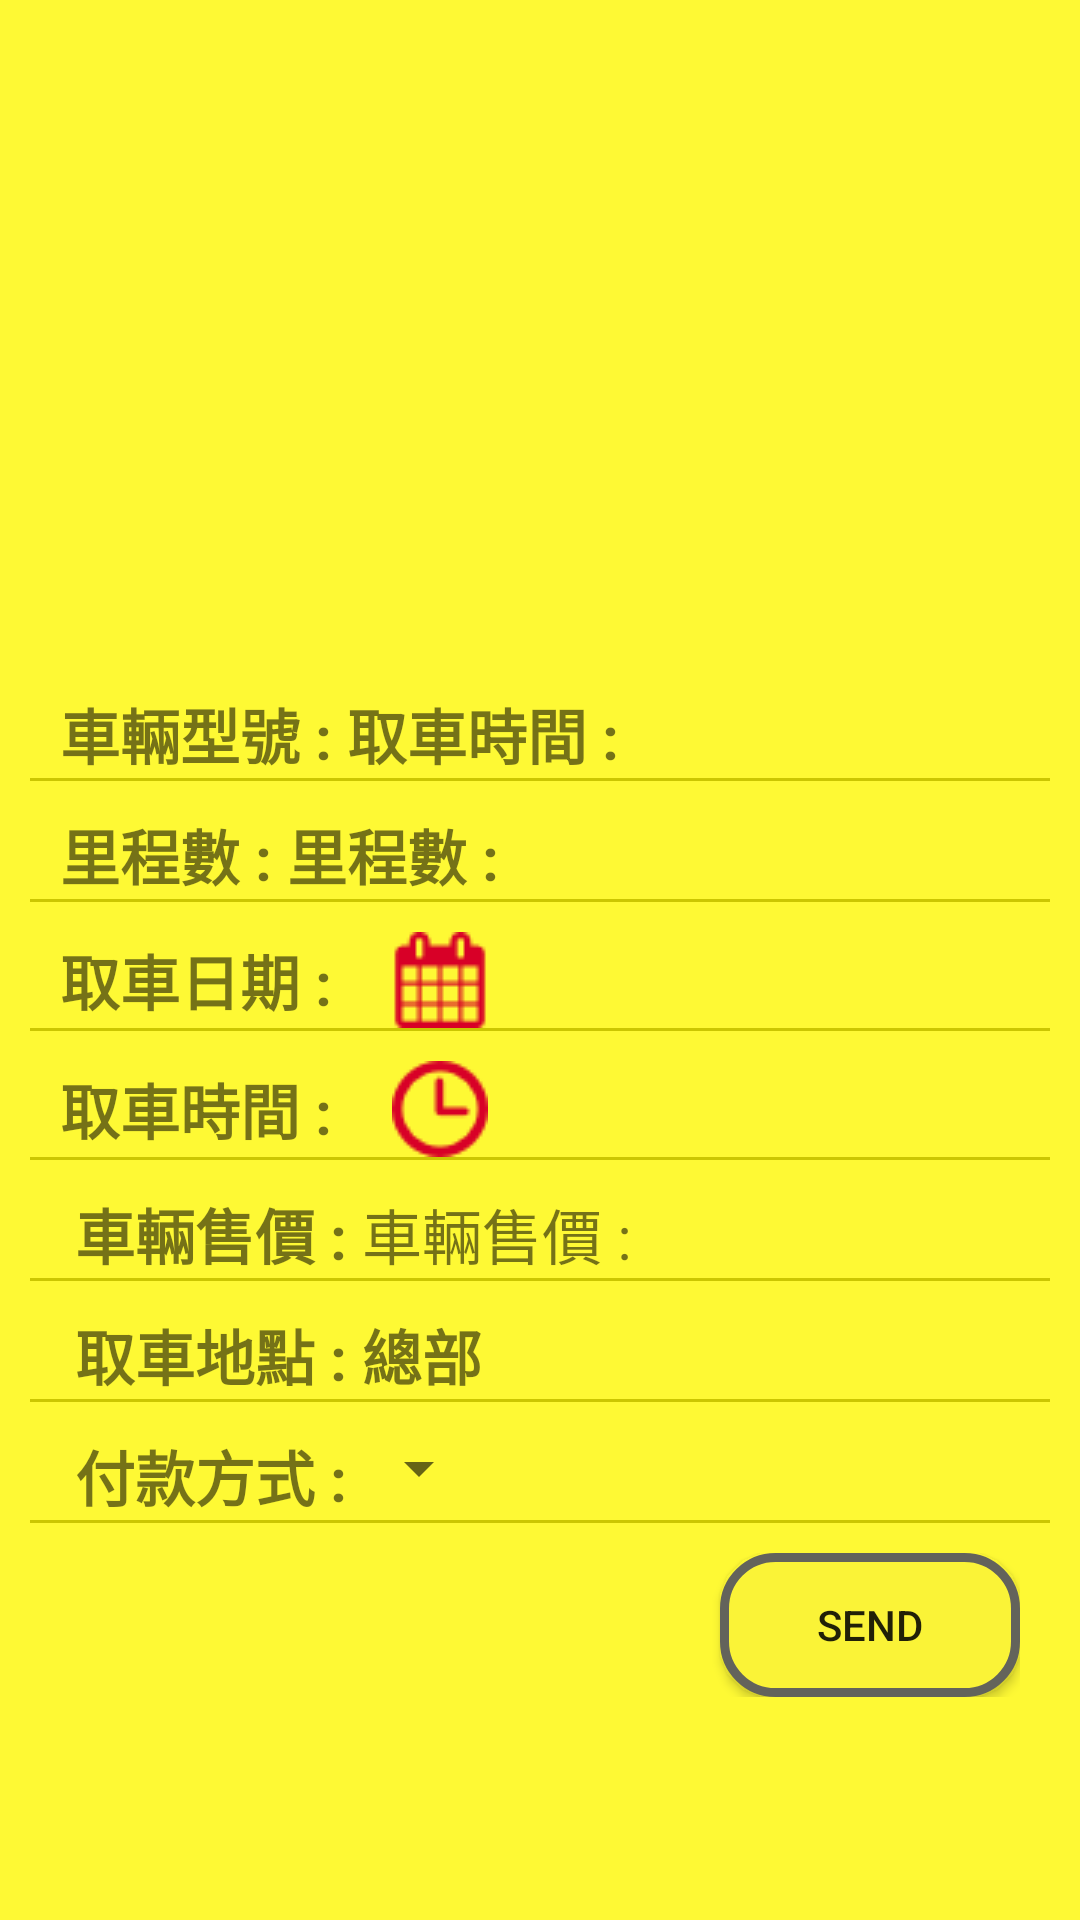

Point at icon controls on the screen. Image size 1080*1920, points as (x=x, y=y).
calendar: (x=440, y=980)
clock: (x=440, y=1109)
